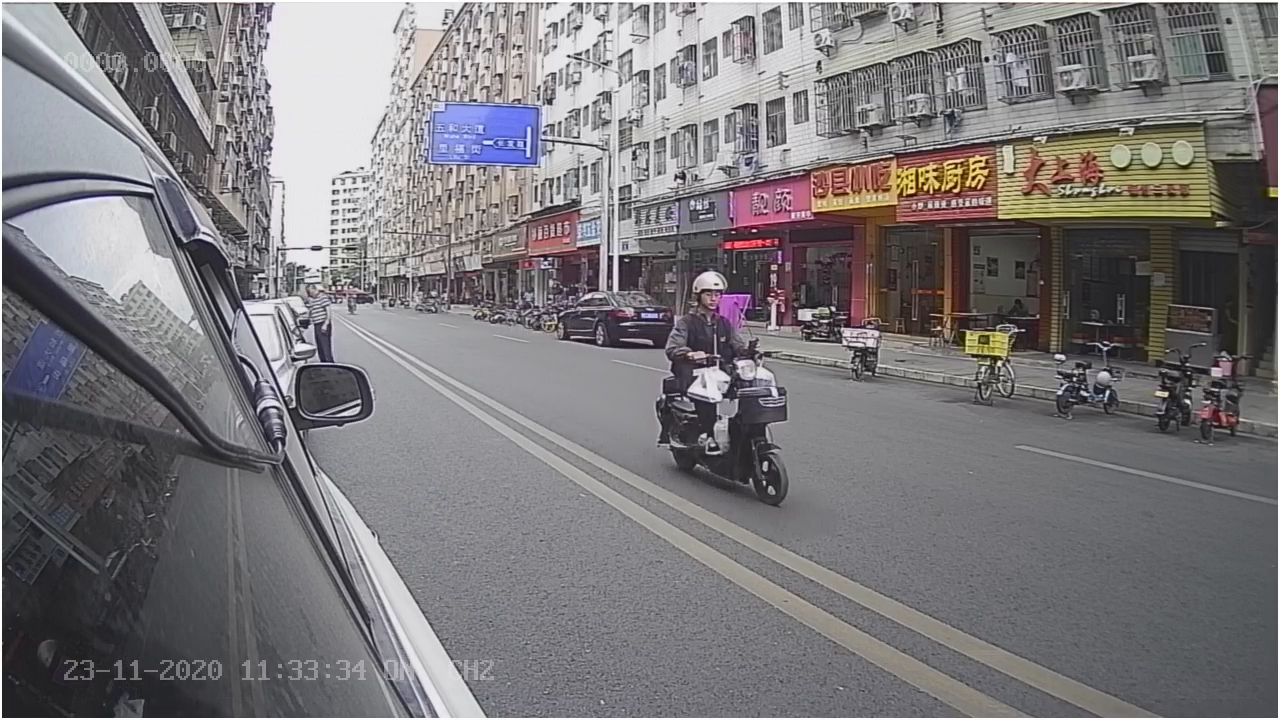person: (668, 263, 762, 364)
